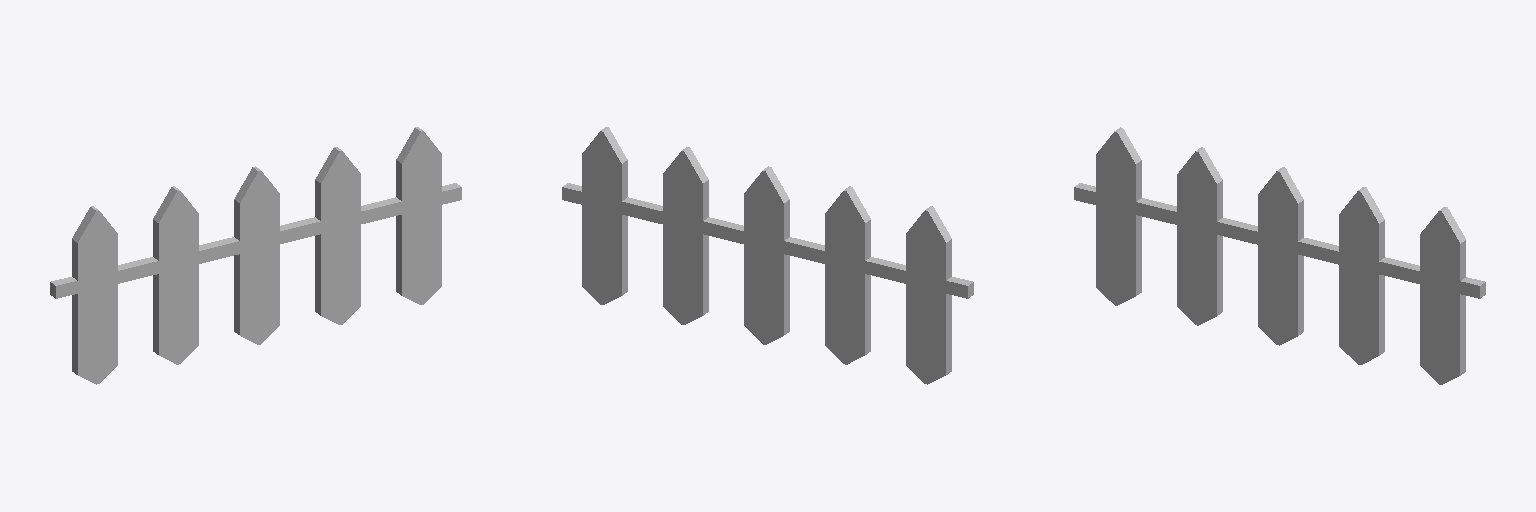
The model's file is fence.obj.
3 views of the same model, side by side, from view 1: azimuth 30°, elevation 25°; view 2: azimuth 150°, elevation 25°; view 3: azimuth 330°, elevation 25° (orthographic).
Parts seen in each view (by area): view 1: Plane; view 2: Plane; view 3: Plane.
Part boxes in pixels (bbox=[...]): Plane: bbox=[50, 127, 461, 384]; Plane: bbox=[562, 127, 973, 384]; Plane: bbox=[1074, 127, 1485, 384].
Bounding box in the file's own units: 1.29 × 0.5265 × 0.032.